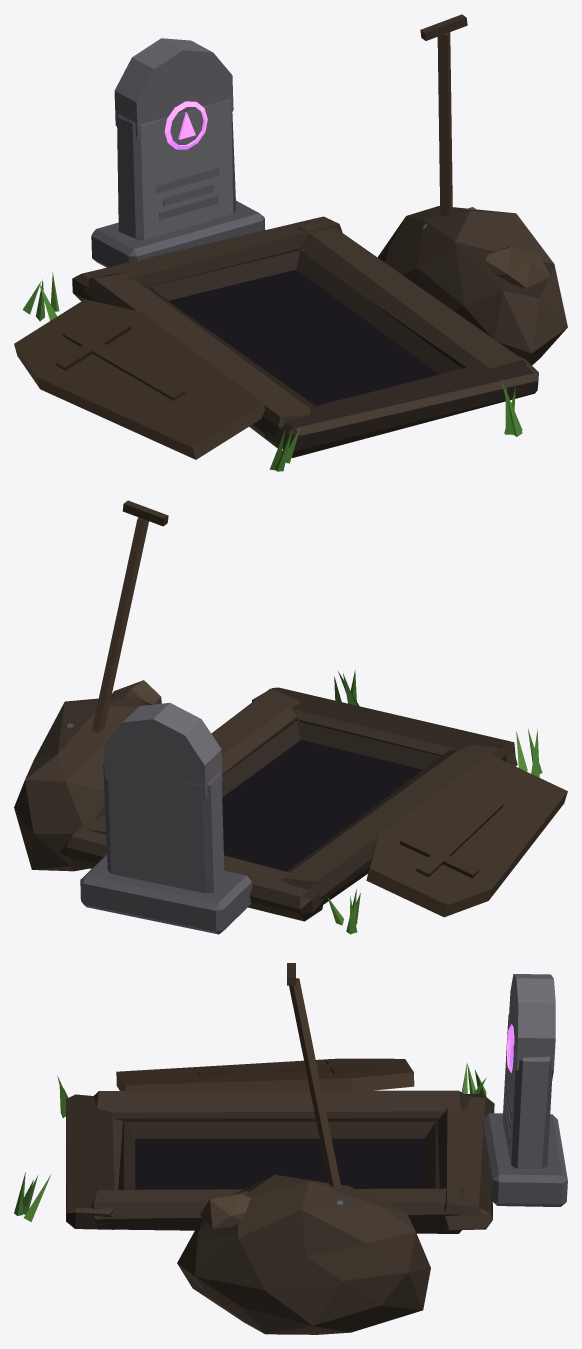
File: grave_open.glb
3 renders of one model, top to bottom at view 1: azimuth 30°, elevation 25°; view 2: azimuth 150°, elevation 25°; view 3: azimuth 270°, elevation 25°, orthographic. The views are drawn at different scales.
Visible parts, largest first — view 1: GraveOpen; view 2: GraveOpen; view 3: GraveOpen.
Part boxes in pixels (<box>): GraveOpen: <box>14,14,567,471</box>; GraveOpen: <box>14,500,567,934</box>; GraveOpen: <box>14,963,567,1334</box>.
Size of the model in its own units: 1.82 by 1.34 by 1.91.
